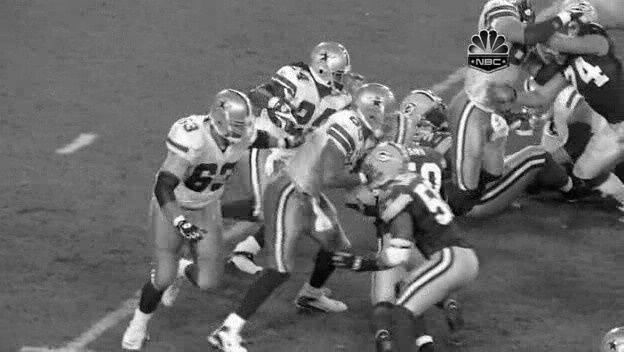person: (318, 40, 353, 85), (317, 40, 352, 85), (319, 40, 354, 85), (318, 39, 353, 84), (318, 41, 353, 86)
target_negative: (368, 111, 574, 242), (68, 15, 154, 212), (482, 160, 579, 295), (258, 102, 459, 166), (219, 149, 624, 150), (101, 181, 111, 188)
